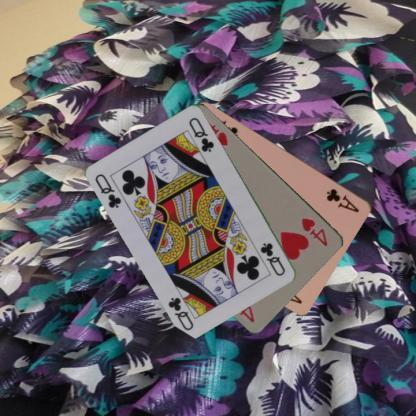4h: (300, 215, 330, 248)
Ac: (324, 185, 361, 214)
Qc: (92, 172, 124, 209), (258, 240, 287, 278)
